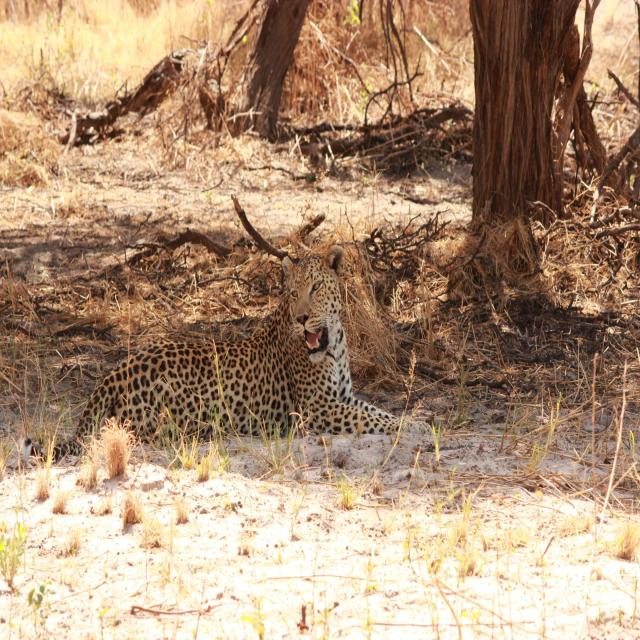Leopard: (16, 258, 437, 470)
